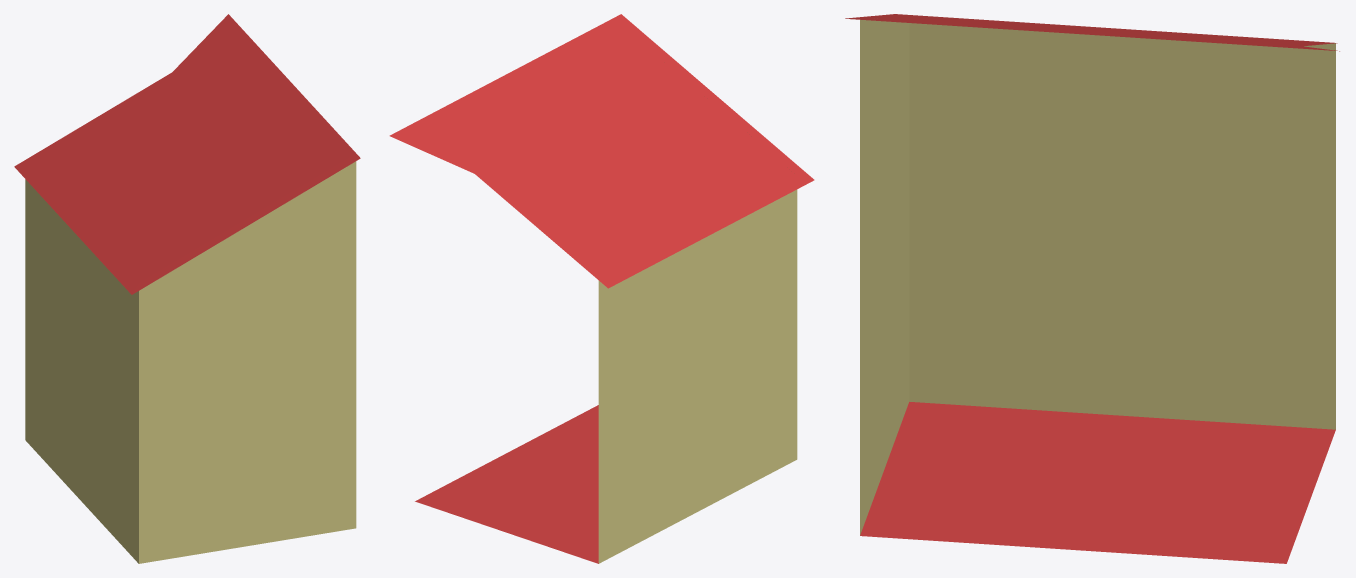
The picture shows the model from 3 angles, left to right: view 1: azimuth 30°, elevation 25°; view 2: azimuth 150°, elevation 25°; view 3: azimuth 270°, elevation 25°; orthographic projection. The views are drawn at different scales.
Bounding box in the file's own units: 6.08 × 7.36 × 8.41.
